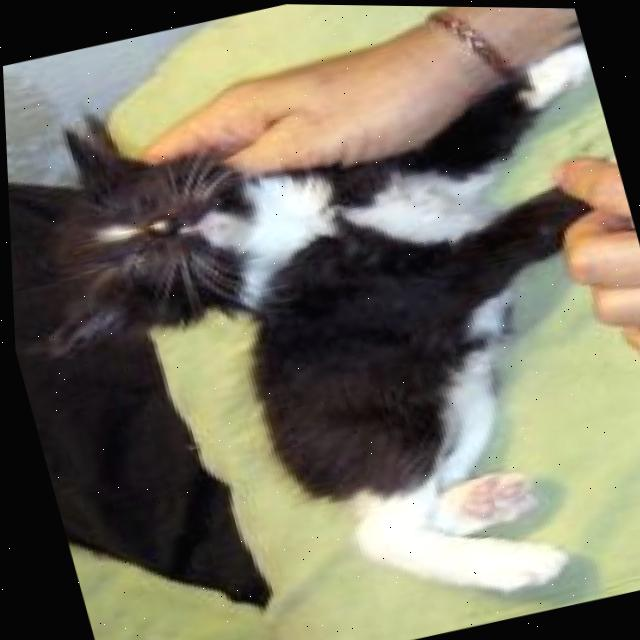American Bobtail: (0, 5, 640, 640)
